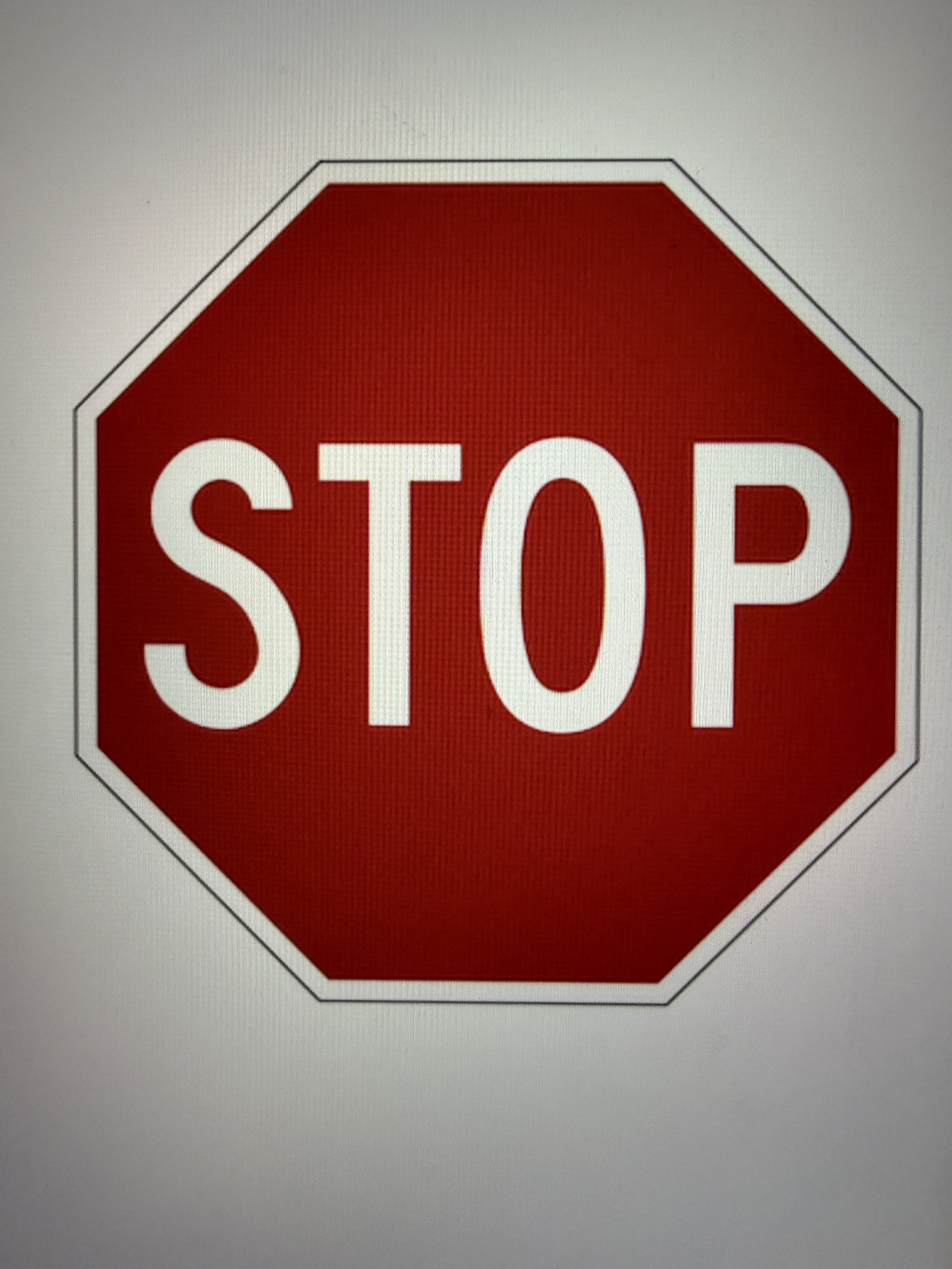STOP: (52, 210, 690, 1269)
